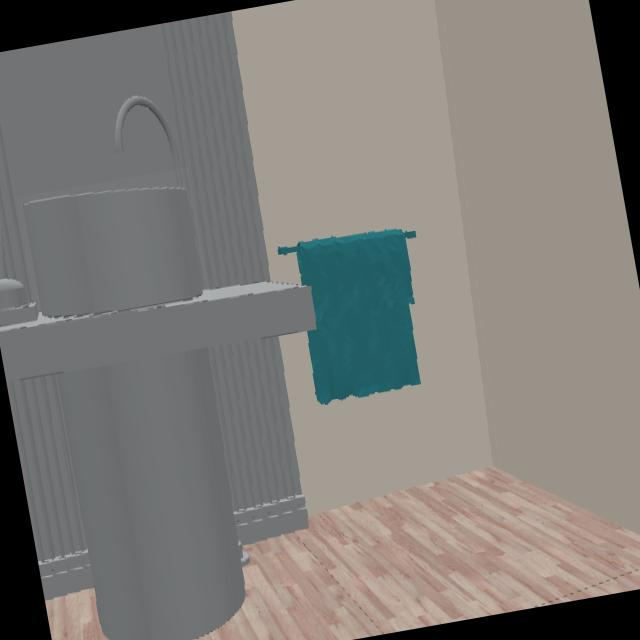washbasin: (18, 170, 207, 323)
